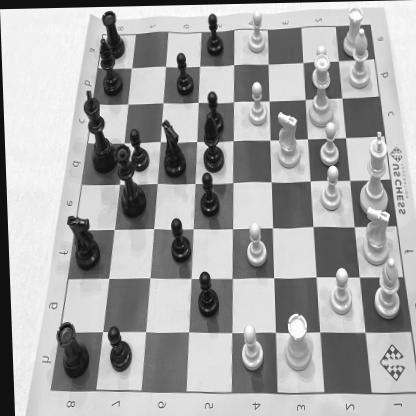black-bishop: (96, 35, 122, 96), (200, 112, 223, 172)
black-king: (79, 86, 117, 173)
black-knight: (65, 210, 98, 270), (158, 118, 186, 178)
black-pawn: (104, 323, 131, 374), (193, 267, 218, 321), (168, 214, 190, 264), (196, 170, 218, 218), (174, 49, 195, 98), (128, 126, 149, 172), (204, 88, 224, 135), (204, 10, 224, 56)
black-queen: (114, 142, 144, 218)
black-rook: (52, 318, 86, 378), (100, 8, 126, 57)
white-bishop: (370, 258, 399, 321), (346, 27, 372, 91)
white-king: (354, 128, 390, 216)
white-knight: (360, 207, 392, 266), (273, 110, 300, 172)
white-pawn: (237, 321, 263, 373), (326, 268, 350, 316), (244, 219, 266, 270), (318, 165, 341, 212), (246, 80, 268, 128), (317, 120, 338, 166), (310, 43, 330, 90), (246, 7, 266, 54)
white-queen: (304, 53, 336, 128)
white-rook: (280, 310, 310, 374), (340, 4, 364, 58)
